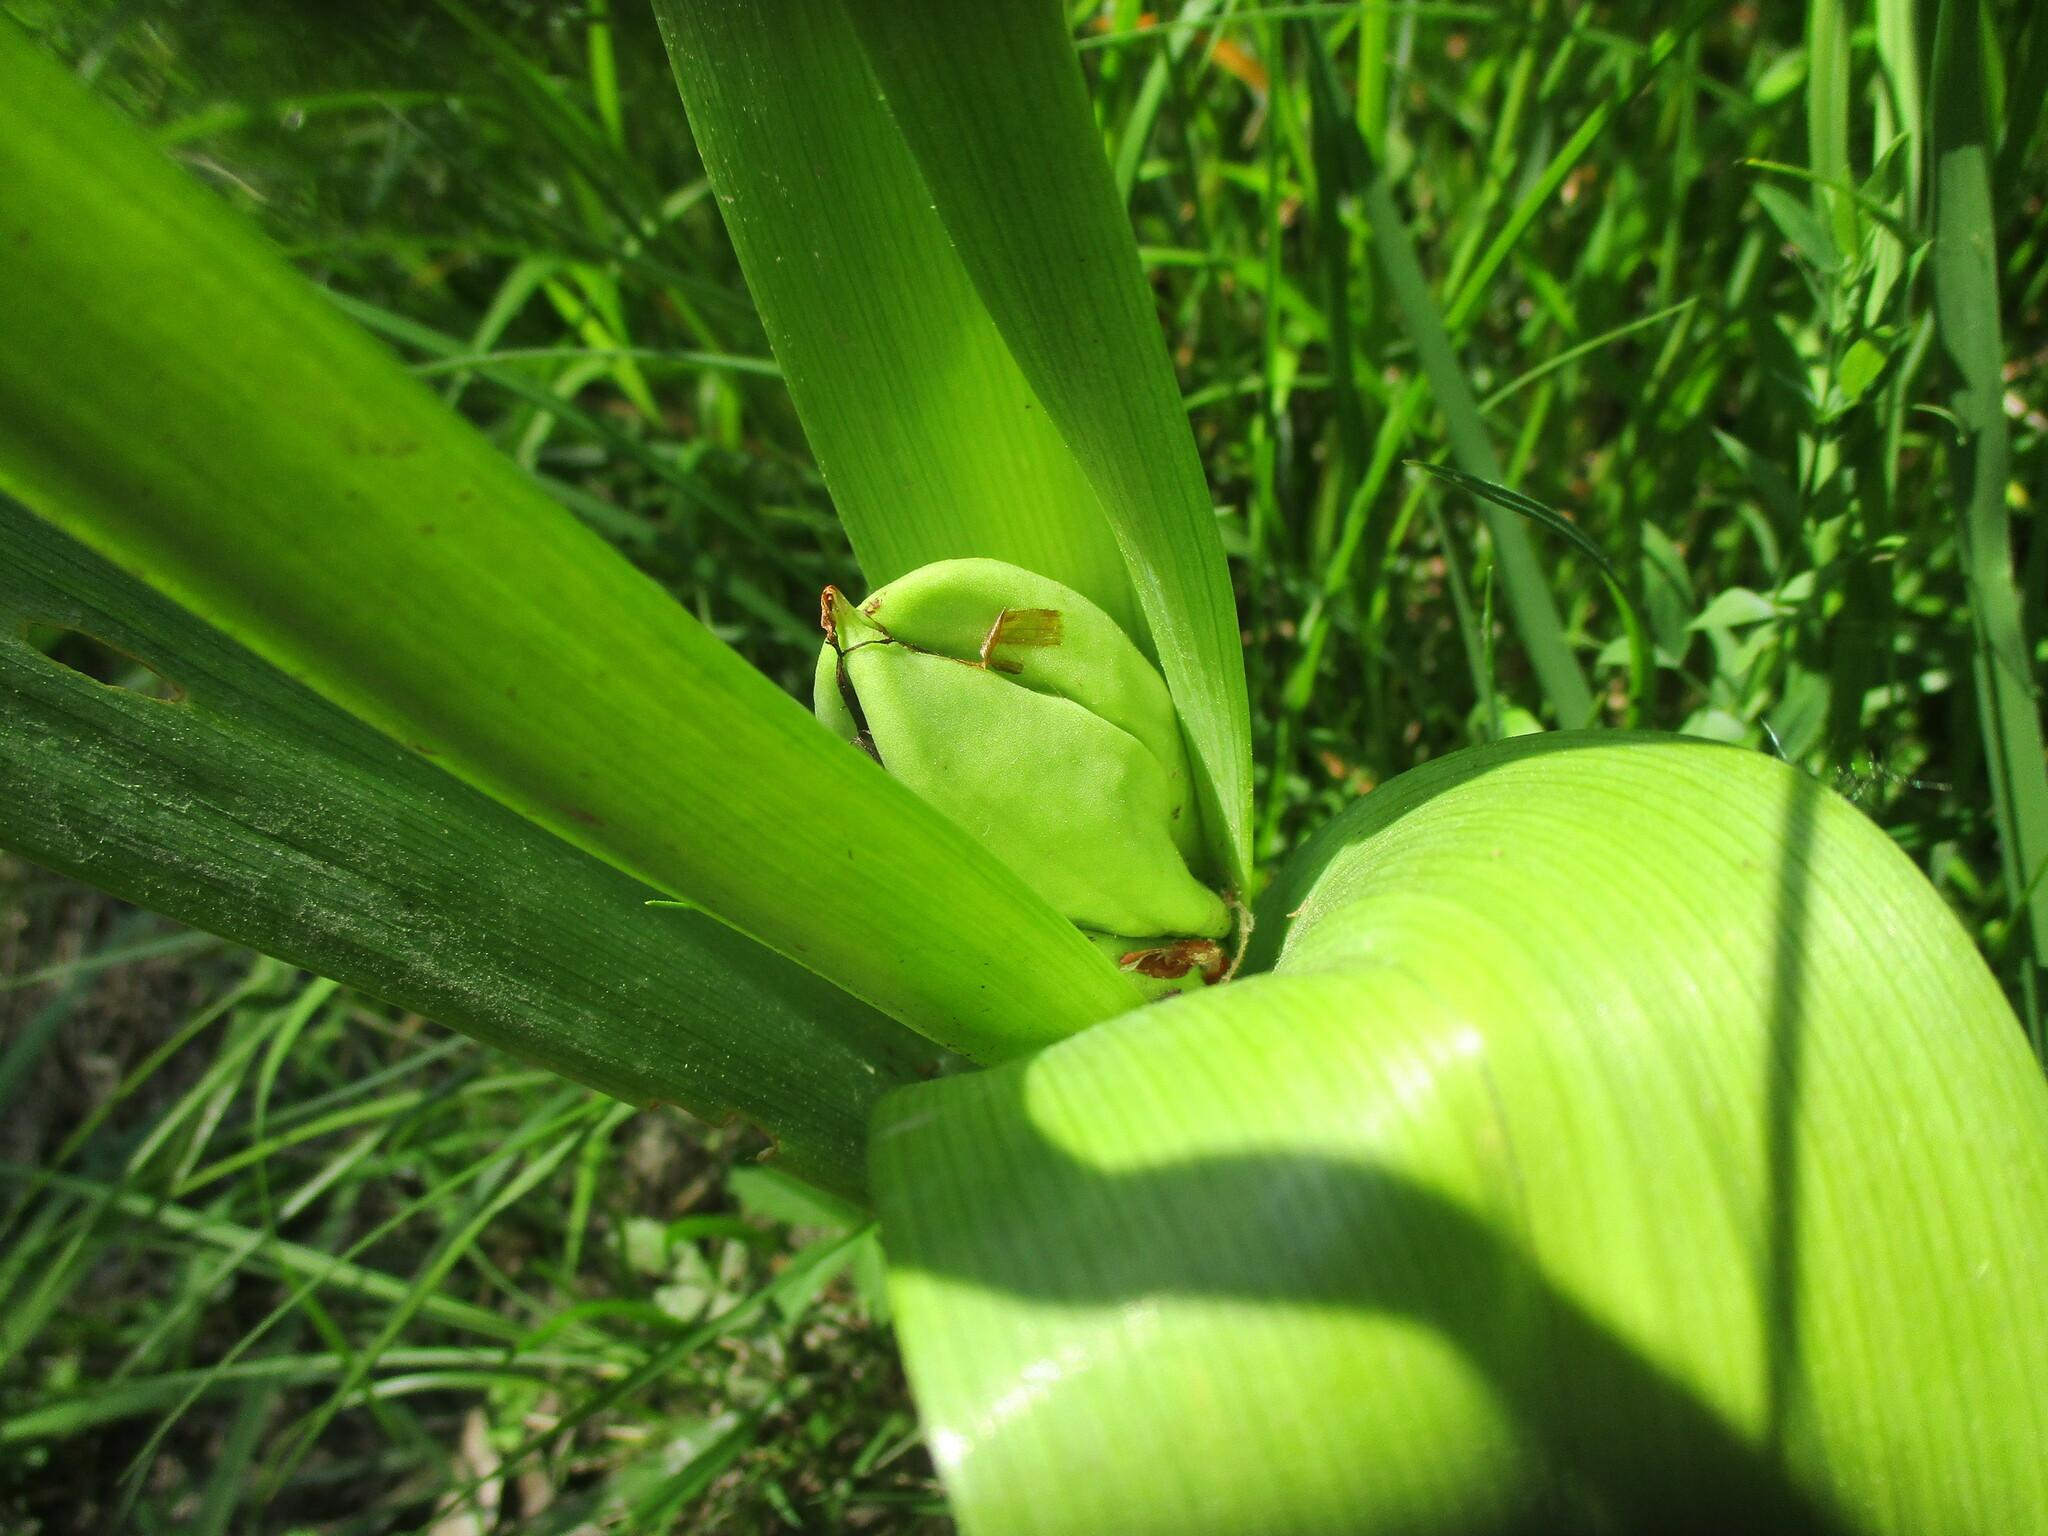Colchicum autumnale L: (65, 116, 1885, 1413)
